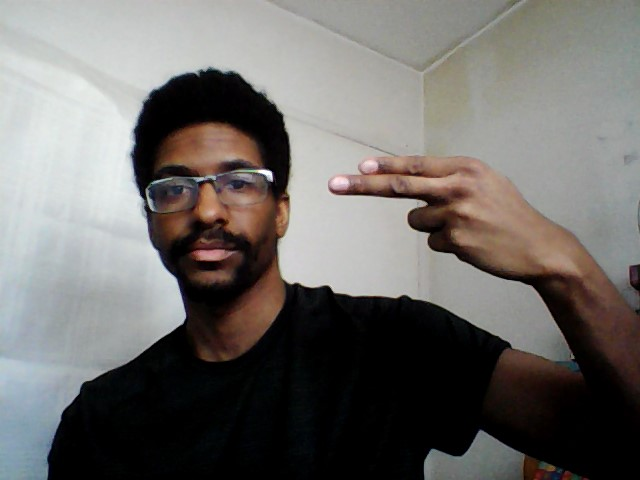h: (321, 148, 583, 282)
